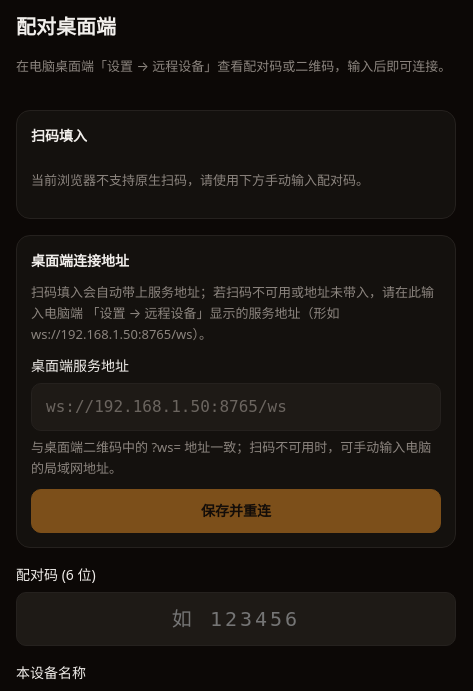
Test case: PairPage 桌面端地址与扫码 › 壳内保存后再次编辑地址，「已保存」提示消失
Type "ws://10.0.0.5:8765/ws" into the field with test id "ws-address-input" showing "桌面端服务地址".
click(236, 407); type("ws://10.0.0.5:8765/ws")  # box [31, 383, 441, 431]
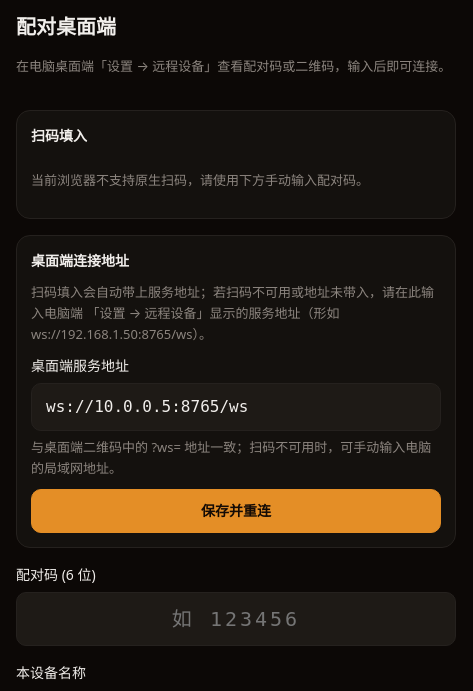
Click the button with test id "btn-save-ws-address".
click(236, 511)  # box [31, 489, 441, 533]
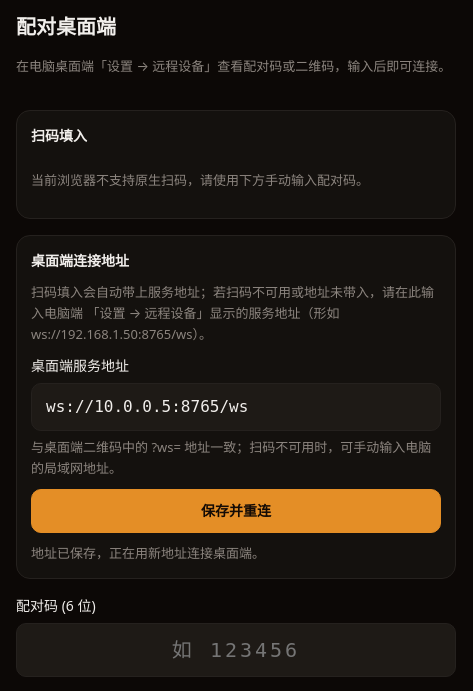
Result: the text "地址已保存，正在用新地址连接桌面端。" is shown at [31, 544, 265, 562]
Replace the text in the field with test id "ws-address-input" showing "桌面端服务地址" with "ws://10.0.0.9:8765/ws" at (236, 407), box [31, 383, 441, 431]
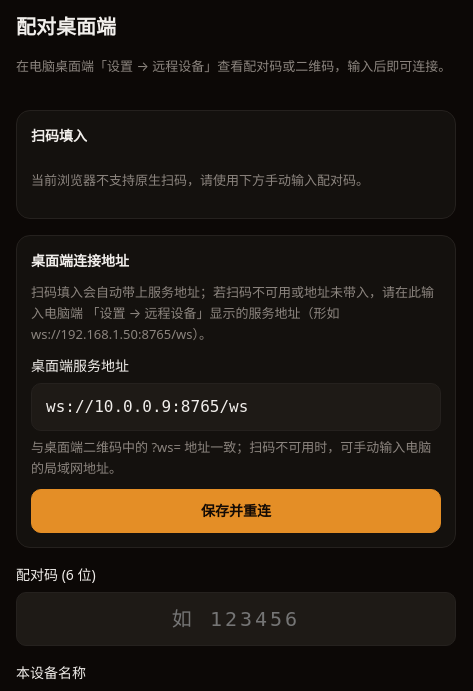
Result: the text with test id "ws-address-saved" is gone
